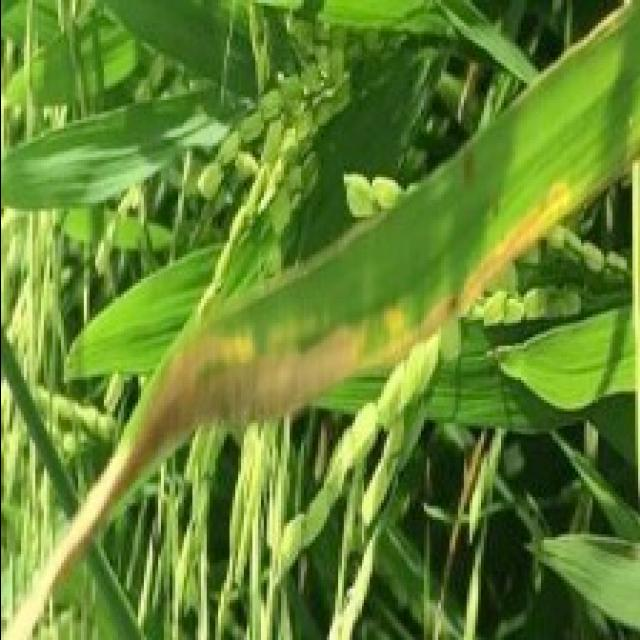Unhealthy: (0, 177, 578, 640), (460, 144, 476, 188)
